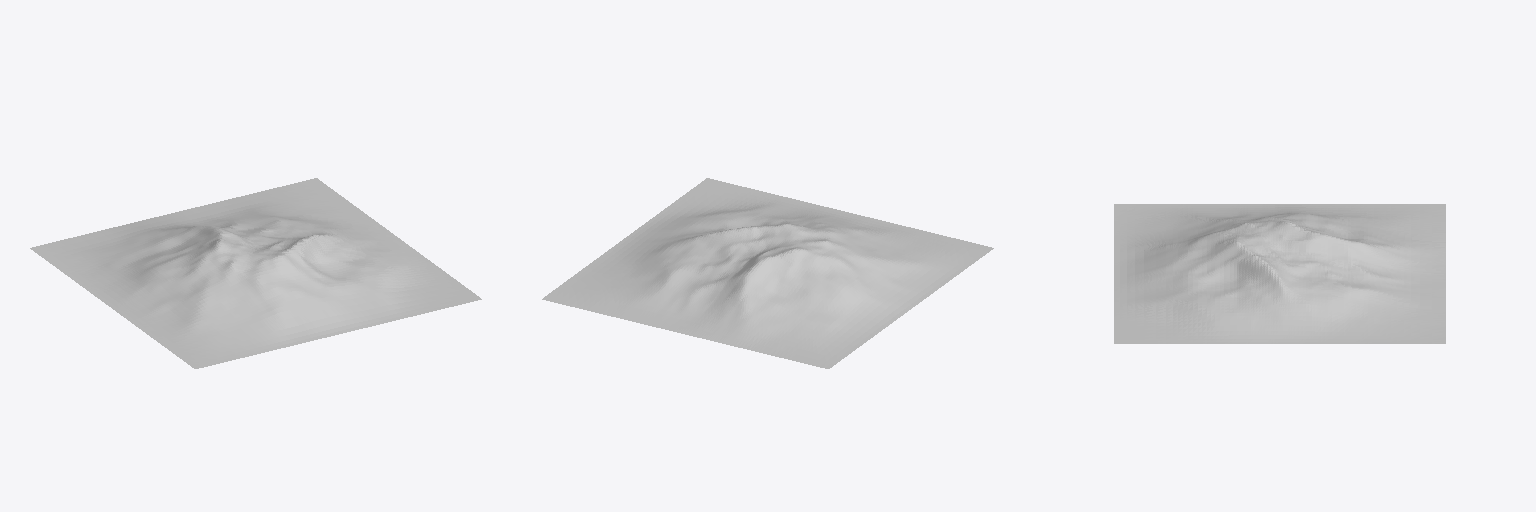
File: dirt.obj
3 views of the same model, side by side, from view 1: azimuth 30°, elevation 25°; view 2: azimuth 150°, elevation 25°; view 3: azimuth 270°, elevation 25° (orthographic).
Visible parts, largest first — view 1: dirt1:Landscape; view 2: dirt1:Landscape; view 3: dirt1:Landscape.
Boxes of the visible parts, <box> form: dirt1:Landscape: <box>30,178,481,368</box>; dirt1:Landscape: <box>542,178,993,368</box>; dirt1:Landscape: <box>1114,204,1445,343</box>.
Size of the model in its own units: 60 by 7.07 by 60.